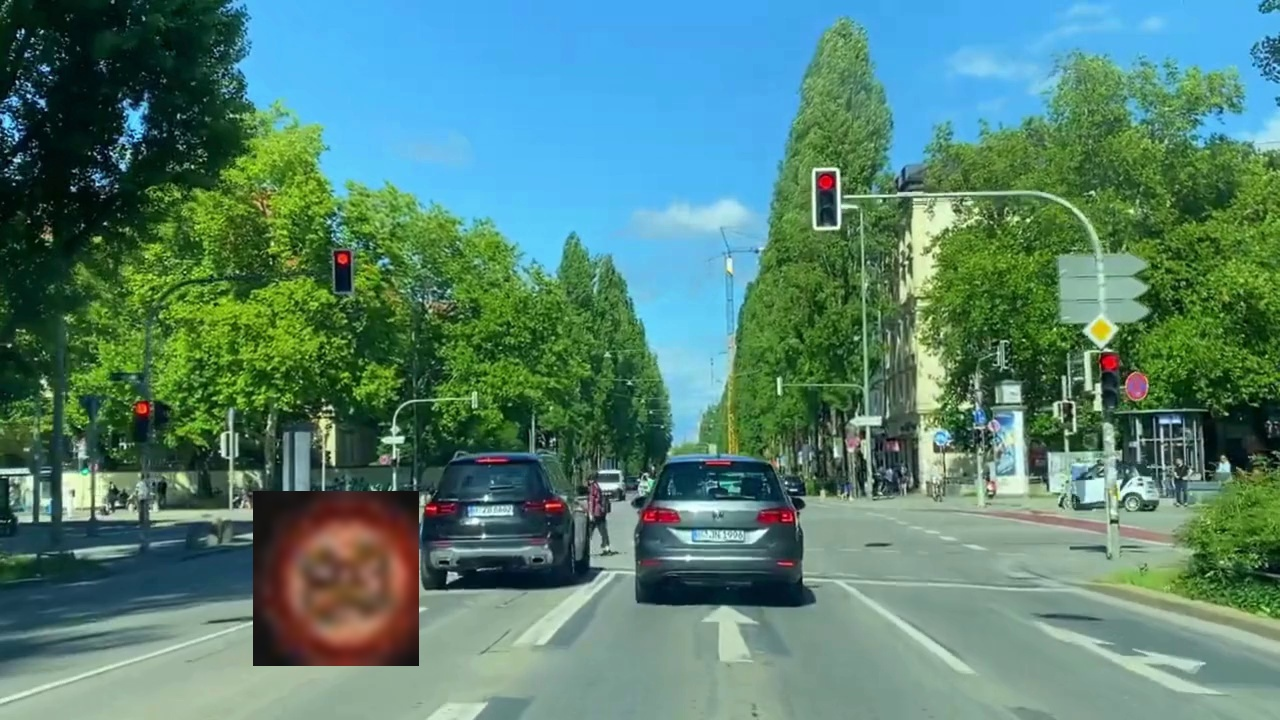Speed 80: (253, 491, 419, 666)
